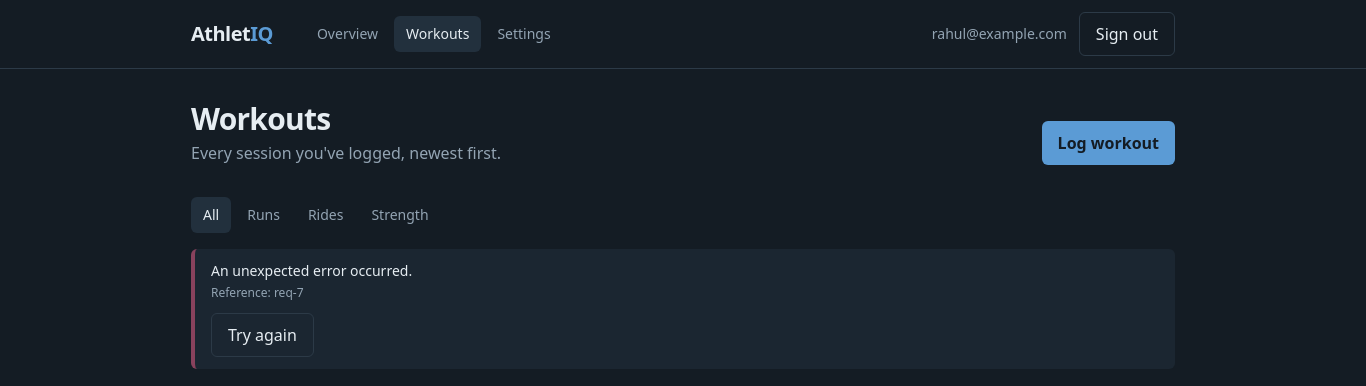
Test: WorkoutsPage › offers a retry when the list fails to load
This screenshot has width=1366, height=386.
Expected: the text "Reference: req-7" is shown, [211,284,304,301]
What coordinates should you click on to do the following:
click the button "Try again"
I would click on:
 (262, 335)
Its box is [211,313,314,357].
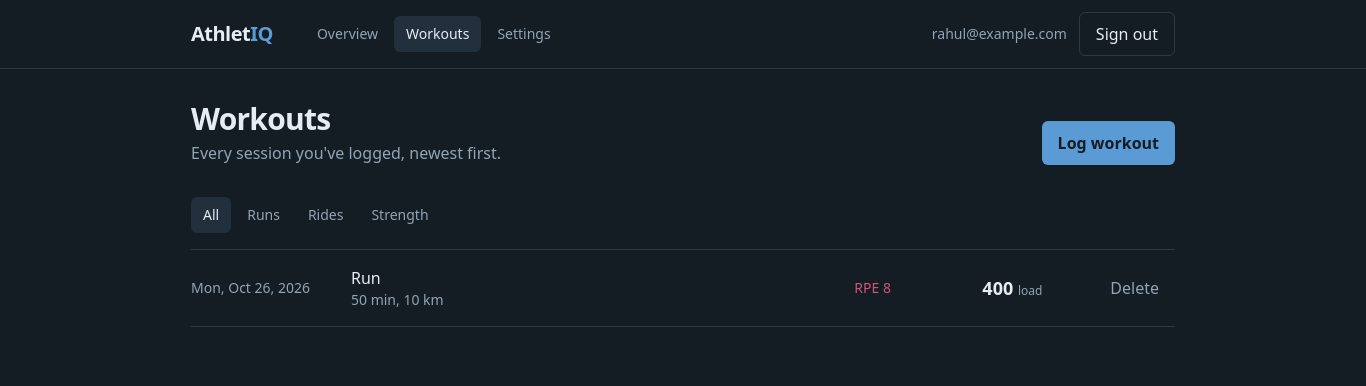
Expected: the list named "Workout history" is shown, [191,249,1175,327]
